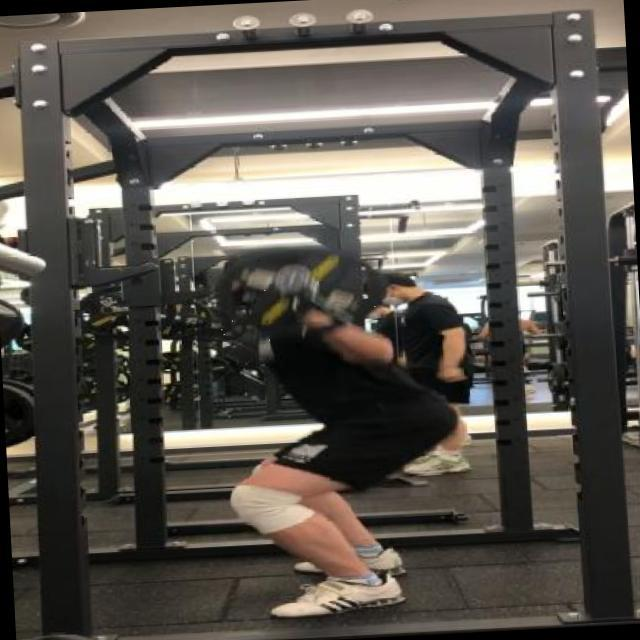barbell: (179, 231, 395, 352)
